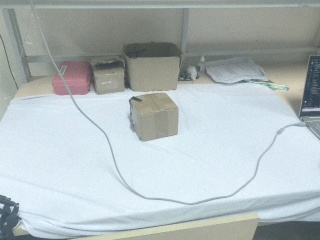box: (122, 40, 181, 93), (128, 92, 179, 142), (88, 55, 126, 95), (51, 61, 91, 95)
